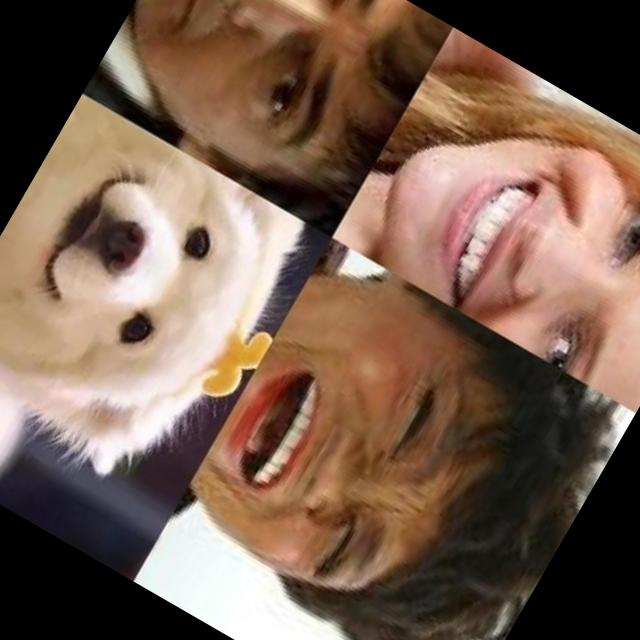bareface: (156, 241, 583, 640), (342, 44, 640, 415), (102, 0, 442, 196)
